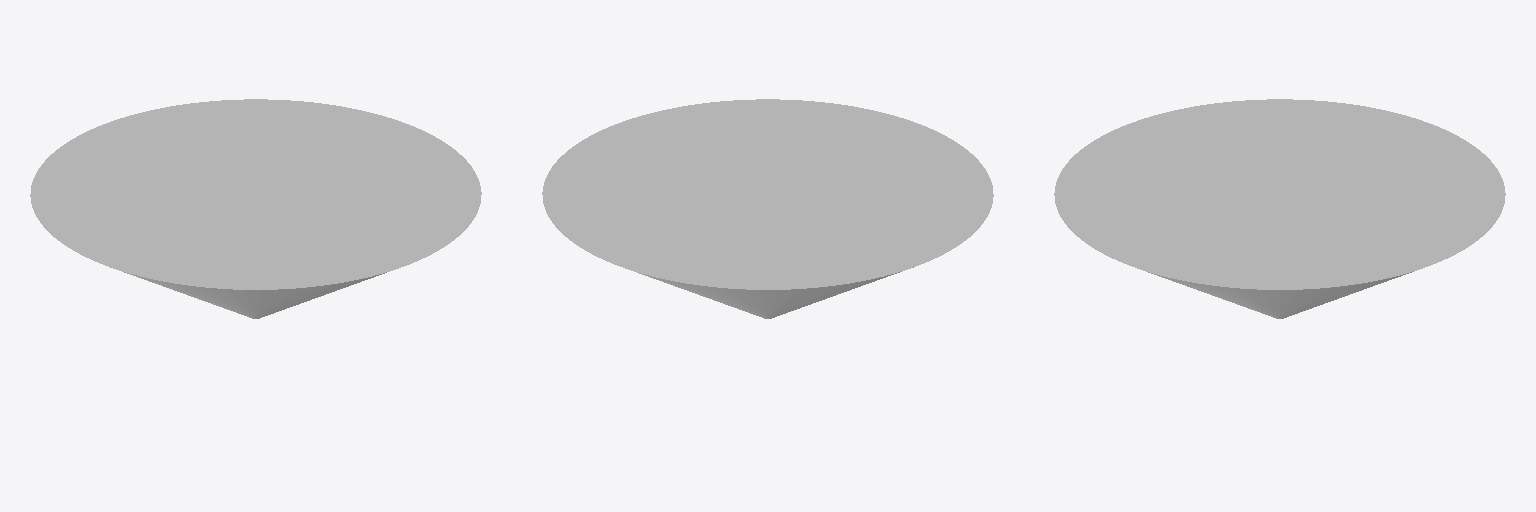
File: TestBlade2-2.obj
3 renders of one model, left to right at view 1: azimuth 30°, elevation 25°; view 2: azimuth 150°, elevation 25°; view 3: azimuth 270°, elevation 25°, orthographic.
Bounding box in the file's own units: 1 × 0.3 × 1.